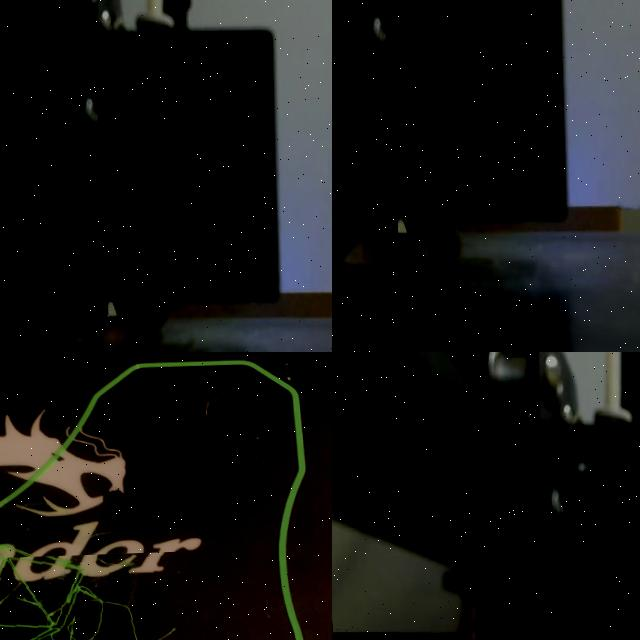spaghetti: (0, 550, 214, 640), (76, 313, 160, 352), (343, 235, 410, 270), (423, 222, 458, 270)
